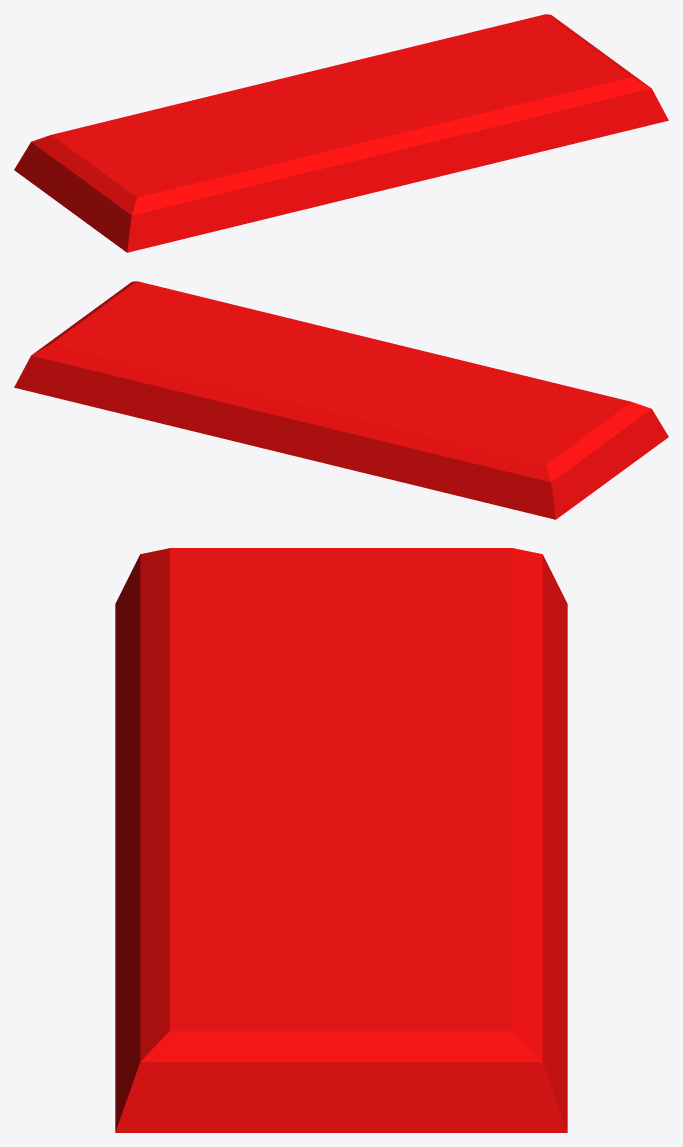
The model's file is BedPillow.FBX.
3 views of the same model, one above another, from view 1: azimuth 30°, elevation 25°; view 2: azimuth 150°, elevation 25°; view 3: azimuth 270°, elevation 25° (orthographic). The views are drawn at different scales.
Parts seen in each view (by area): view 1: Pillow; view 2: Pillow; view 3: Pillow.
Part boxes in pixels (<box>): Pillow: <box>14,14,668,252</box>; Pillow: <box>14,281,668,519</box>; Pillow: <box>115,548,567,1132</box>.
Size of the model in its own units: 57.4 by 3.99 by 20.75.
